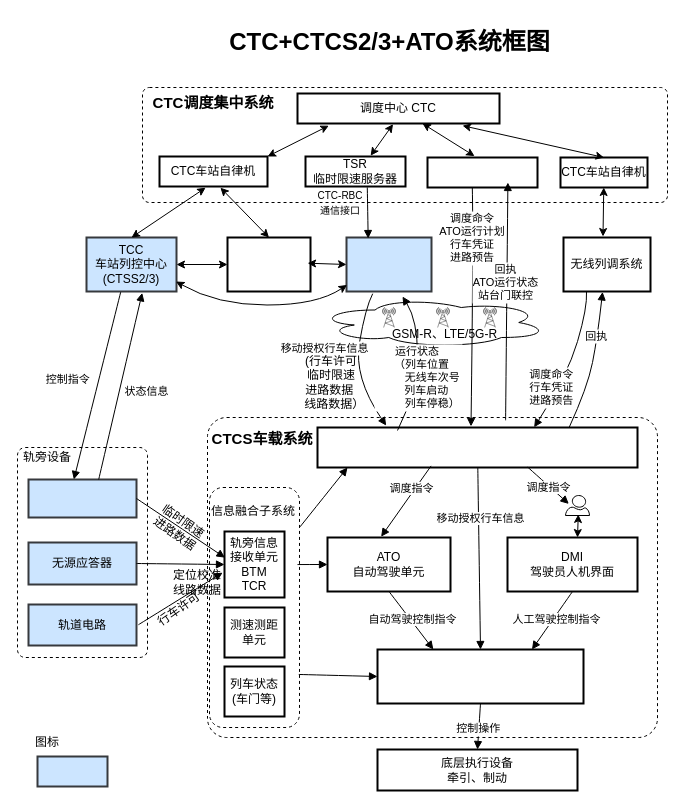
The diagram is 685 pixels wide and 808 high, and some of its shapes have lost their labels. Each missing label, with the box of its shape:
ATP 自动列车保护单元: (376, 648, 584, 704)
CBI 车站联锁: (226, 236, 311, 292)
CTCS地面系统: (36, 755, 108, 787)
GSM-R 通信接口服务器: (426, 156, 538, 188)
LEU/有源应答器: (27, 478, 137, 518)
RBC 无线闭塞中心 (CTCS3): (345, 236, 432, 292)
机车综合通信设备: (316, 426, 638, 468)
